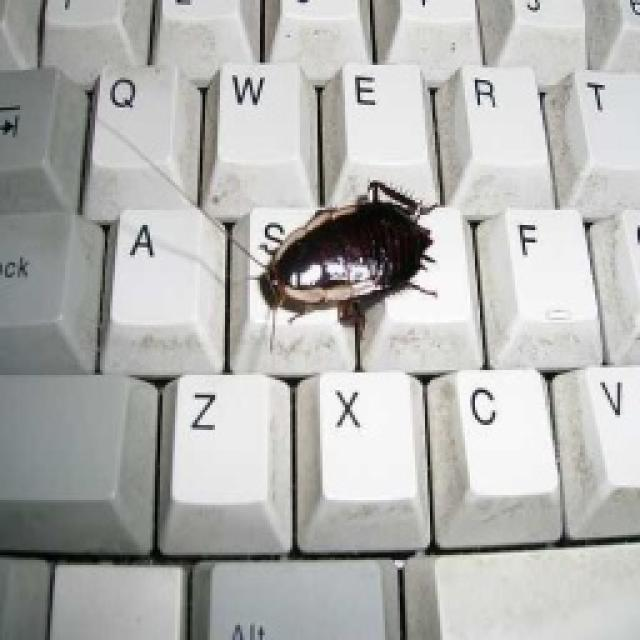cockroach: (223, 182, 475, 352)
